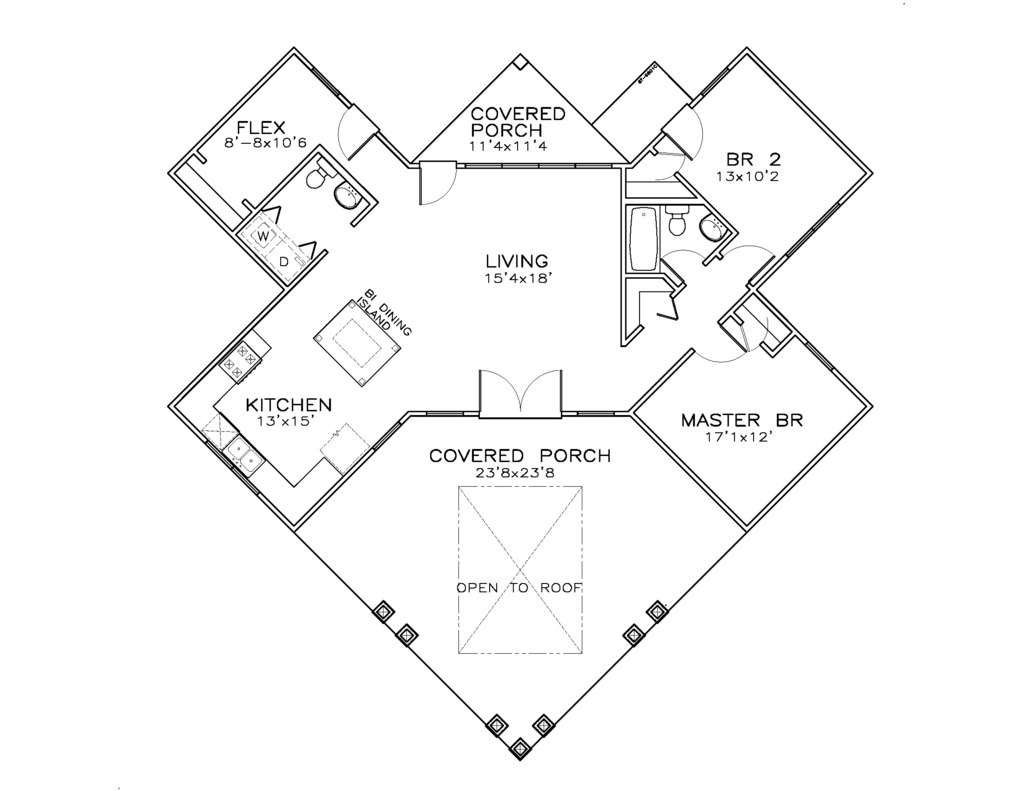door: (475, 364, 568, 422), (336, 101, 378, 163), (725, 241, 777, 286), (414, 159, 461, 208), (699, 326, 747, 371), (664, 107, 701, 164), (658, 250, 707, 284)
large_sink: (301, 158, 336, 190), (662, 203, 693, 238)
small_sink: (329, 180, 363, 215), (699, 212, 730, 248)
tub: (623, 199, 664, 278)
twin_sink: (225, 431, 265, 476)
